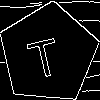T: (23, 28, 63, 80)
